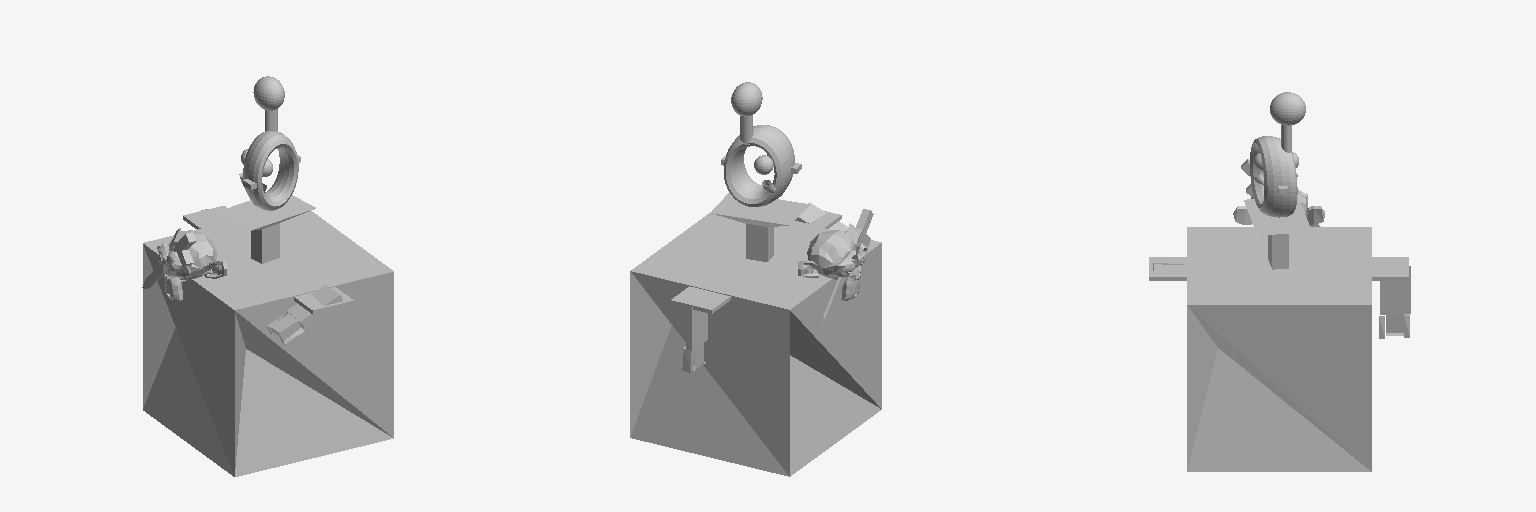
The model's file is Robot_000021.obj.
3 renders of one model, left to right at view 1: azimuth 30°, elevation 25°; view 2: azimuth 150°, elevation 25°; view 3: azimuth 270°, elevation 25°, orthographic.
Parts seen in each view (by area): view 1: Cube.001_Cube, Cube_Cube.001, Suzanne, Left_Hand.001_Cube.005, Cube.002_Cube.004, Sphere, Cube.003_Cube.006; view 2: Cube.001_Cube, Cube_Cube.001, Suzanne, Cube.002_Cube.004, Left_Hand_Cube.002, Cube.003_Cube.006, Sphere; view 3: Cube.001_Cube, Cube_Cube.001, Cube.002_Cube.004, Left_Hand_Cube.002, Sphere, Suzanne.
Boxes of the visible parts, x1=… form: Cube.001_Cube: x1=143, y1=211, x2=393, y2=476; Cube_Cube.001: x1=216, y1=131, x2=315, y2=263; Suzanne: x1=157, y1=230, x2=226, y2=301; Left_Hand.001_Cube.005: x1=267, y1=285, x2=342, y2=344; Cube.002_Cube.004: x1=183, y1=206, x2=353, y2=313; Sphere: x1=253, y1=76, x2=284, y2=110; Cube.003_Cube.006: x1=142, y1=228, x2=195, y2=288; Cube.001_Cube: x1=630, y1=212, x2=881, y2=476; Cube_Cube.001: x1=711, y1=125, x2=810, y2=261; Suzanne: x1=798, y1=230, x2=867, y2=300; Cube.002_Cube.004: x1=671, y1=211, x2=841, y2=313; Left_Hand_Cube.002: x1=682, y1=305, x2=707, y2=372; Cube.003_Cube.006: x1=820, y1=209, x2=873, y2=331; Sphere: x1=731, y1=82, x2=762, y2=116; Cube.001_Cube: x1=1187, y1=227, x2=1371, y2=471; Cube_Cube.001: x1=1244, y1=136, x2=1311, y2=269; Cube.002_Cube.004: x1=1149, y1=257, x2=1408, y2=280; Left_Hand_Cube.002: x1=1379, y1=266, x2=1410, y2=338; Sphere: x1=1270, y1=92, x2=1305, y2=125; Suzanne: x1=1233, y1=189, x2=1324, y2=224.
Bounding box in the file's own units: 2.3 × 4.09 × 2.83.